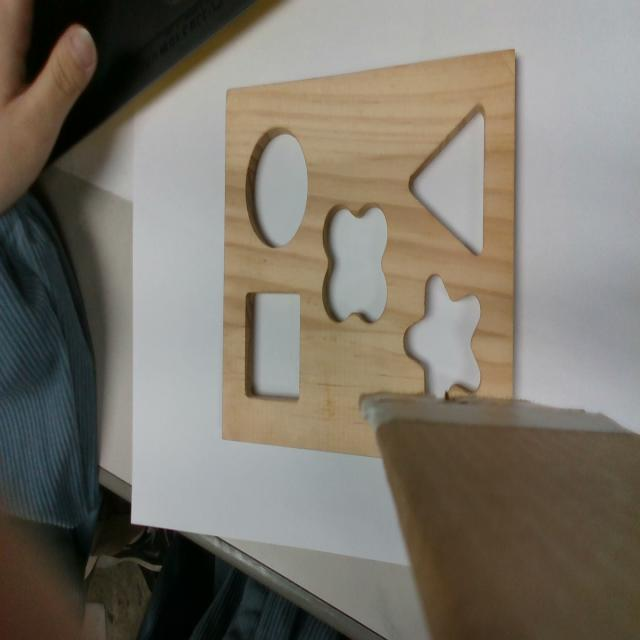circle: (245, 129, 309, 249)
flower: (323, 202, 387, 324)
square: (245, 293, 301, 399)
star: (405, 273, 482, 399)
triangle: (407, 100, 487, 258)
